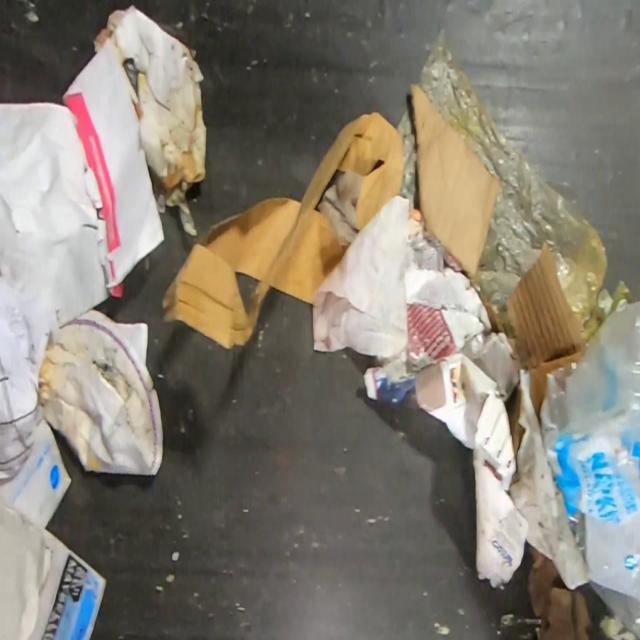cardboard: (160, 112, 403, 349), (92, 4, 206, 236), (409, 83, 499, 273), (507, 246, 586, 425), (527, 544, 592, 640), (504, 380, 524, 467)
soft_plastic: (416, 27, 634, 346), (540, 300, 640, 640), (396, 100, 419, 211)
